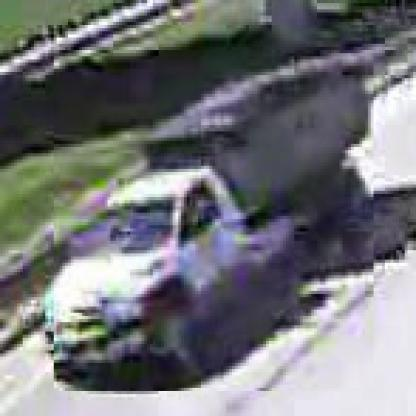truck: (52, 57, 374, 395)
